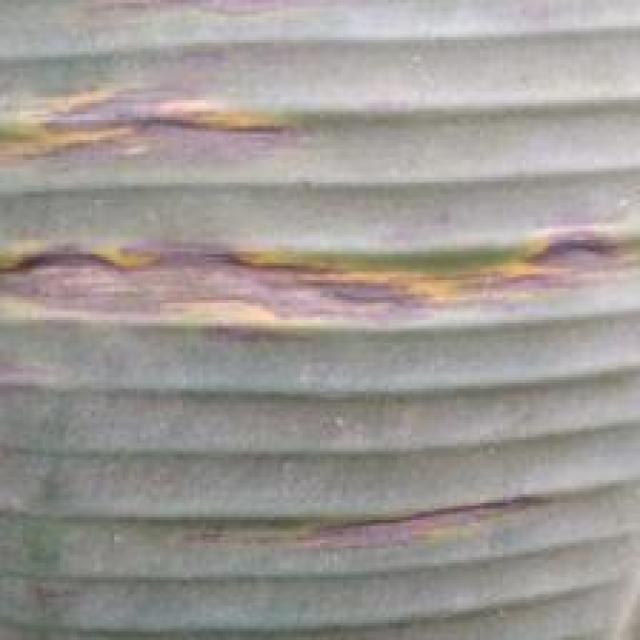Early_leaf_spot: (0, 170, 624, 332), (0, 49, 295, 185), (234, 466, 558, 561)
